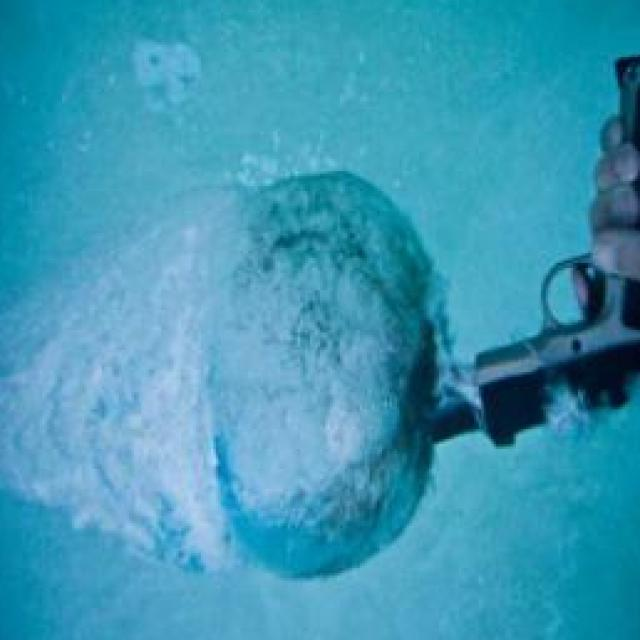pistol: (471, 47, 640, 457)
